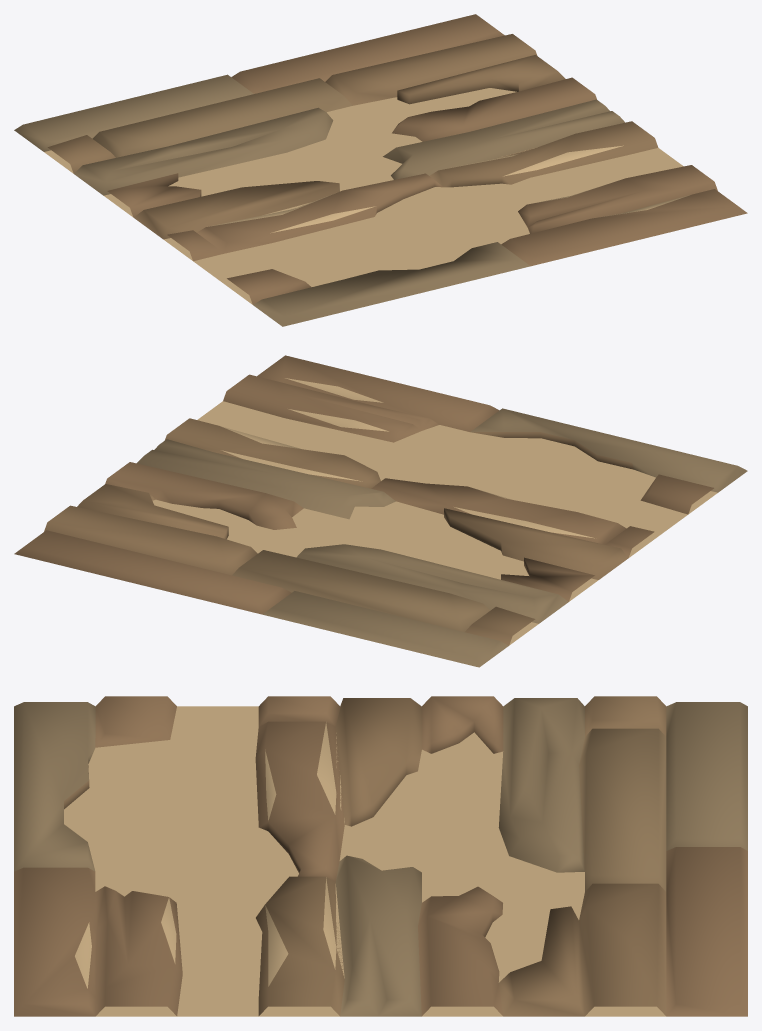
The model's file is rpgpp_av_floor_01e_3x3.gltf.
The picture shows the model from 3 angles, top to bottom: view 1: azimuth 30°, elevation 25°; view 2: azimuth 150°, elevation 25°; view 3: azimuth 270°, elevation 25°; orthographic projection. The views are drawn at different scales.
Visible parts, largest first — view 1: rpgpp_av_floor_01e_3x3; view 2: rpgpp_av_floor_01e_3x3; view 3: rpgpp_av_floor_01e_3x3.
Boxes of the visible parts, <box> form: rpgpp_av_floor_01e_3x3: <box>14,14,747,326</box>; rpgpp_av_floor_01e_3x3: <box>14,355,747,667</box>; rpgpp_av_floor_01e_3x3: <box>14,696,747,1016</box>.
Bounding box in the file's own units: 0.03 × 0.000584 × 0.03.
Materials: 1 (1 with a texture image).
